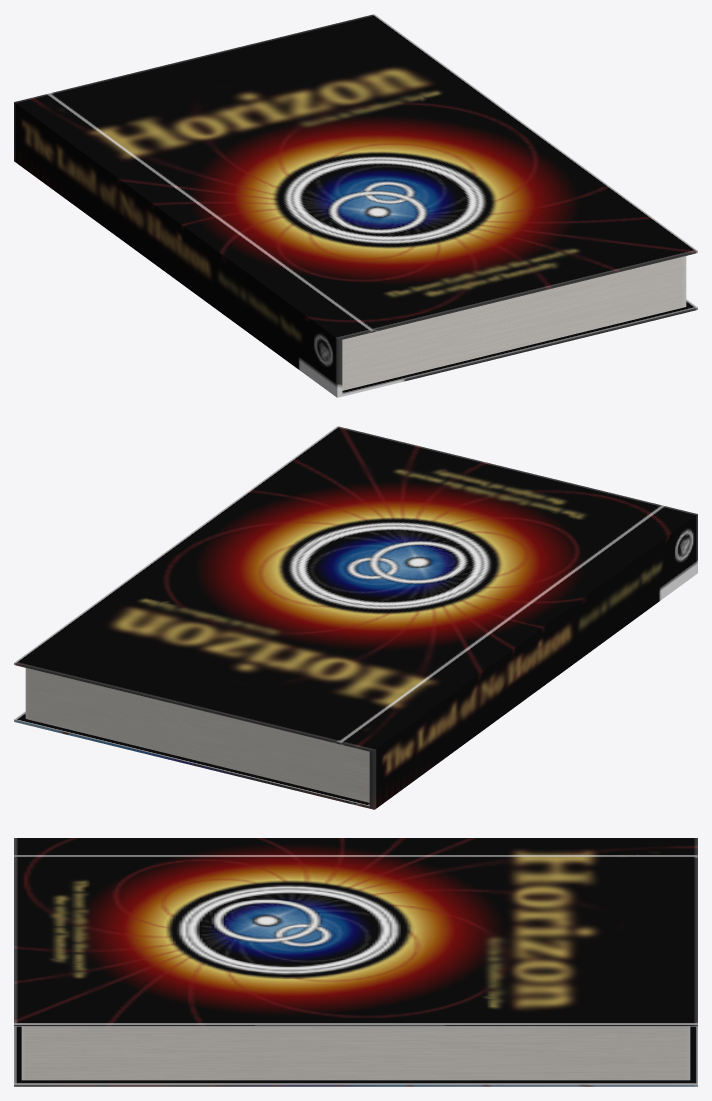
File: book_05.fbx
3 renders of one model, top to bottom at view 1: azimuth 30°, elevation 25°; view 2: azimuth 150°, elevation 25°; view 3: azimuth 270°, elevation 25°, orthographic. The views are drawn at different scales.
Parts seen in each view (by area): view 1: book_05; view 2: book_05; view 3: book_05.
Part boxes in pixels (x1,y1,x2,y2): book_05: [14, 14, 697, 397]; book_05: [14, 426, 697, 809]; book_05: [14, 838, 697, 1086].
Size of the model in its own units: 0.2872 by 0.045 by 0.4459.
1 material, 1 textured.
